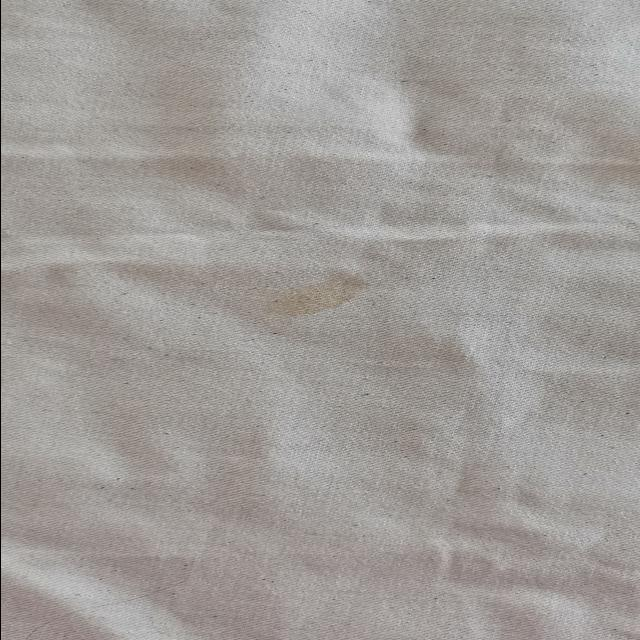taaaches: (249, 266, 373, 316)
